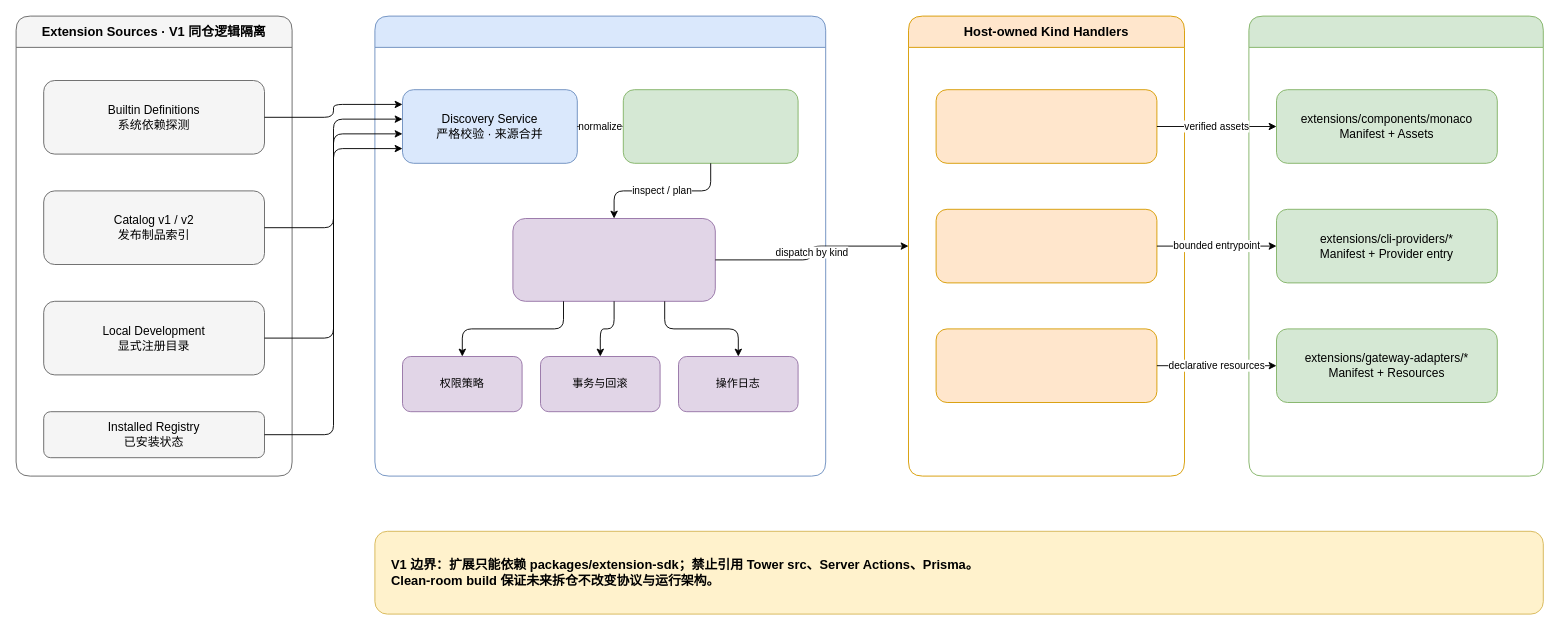
Image size: 1559x630. Some labels were removed from this diagram. Here are the shapes that lost their labels. From the top down, the box of each, then its label:
(622, 89, 798, 163): Normalized Inventory Installed · Available · Developer
(935, 89, 1157, 163): Component Handler Monaco 静态资产
(374, 15, 826, 476): Tower Host · 统一控制面
(512, 218, 715, 301): Extension Manager Plan → Confirm → Apply → Verify
(935, 208, 1157, 283): CLI Provider Handler 兼容现有 AI Runtime
(1248, 15, 1543, 476): Extension Packages · 同仓隔离，稳定后搬迁
(935, 328, 1157, 402): Gateway Adapter Handler OpenClaw / Hermes drivers
